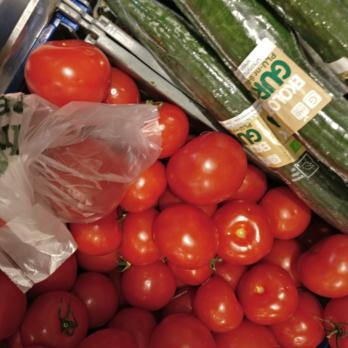Tomato: (171, 176, 278, 348), (82, 188, 197, 345), (249, 213, 348, 348), (26, 42, 114, 103)
